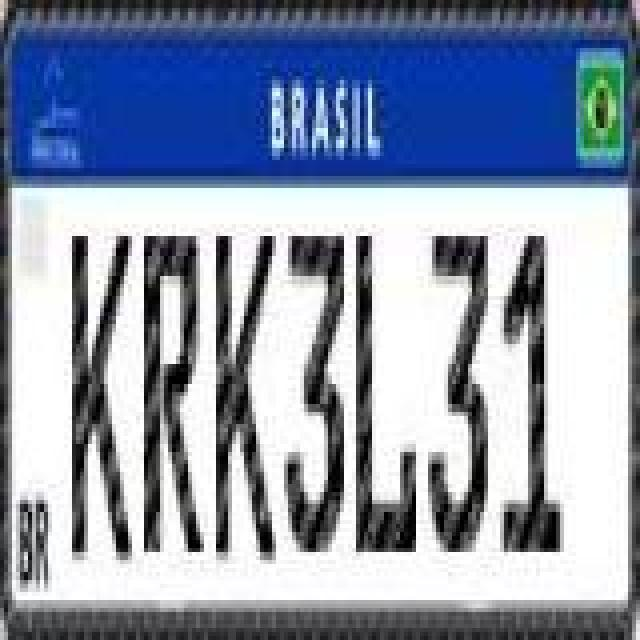1: (500, 230, 564, 554)
3: (280, 230, 344, 554), (424, 230, 488, 554)
K: (72, 232, 136, 568), (216, 232, 280, 568)
L: (352, 230, 416, 554)
R: (144, 230, 208, 554)
